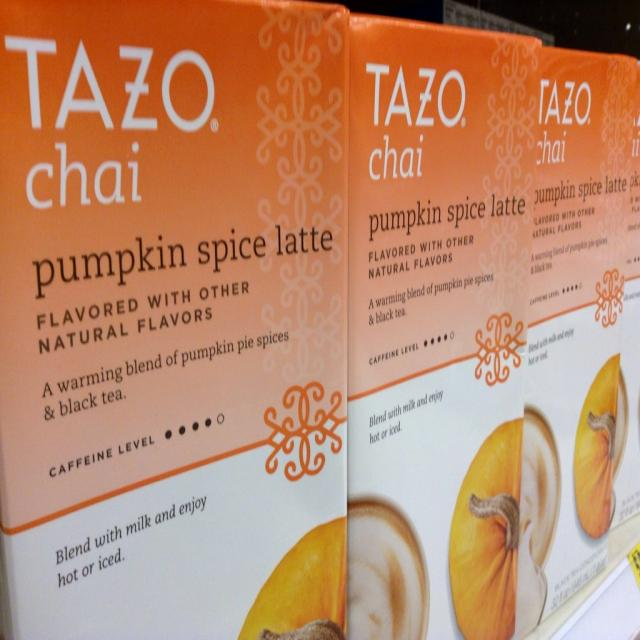Coffee: (344, 505, 425, 639), (506, 400, 556, 564)
